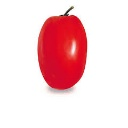tomato: (37, 15, 87, 89)
